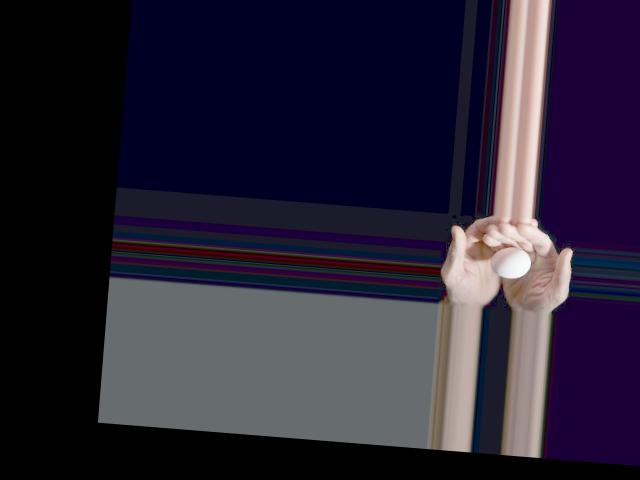egg: (489, 245, 532, 280)
